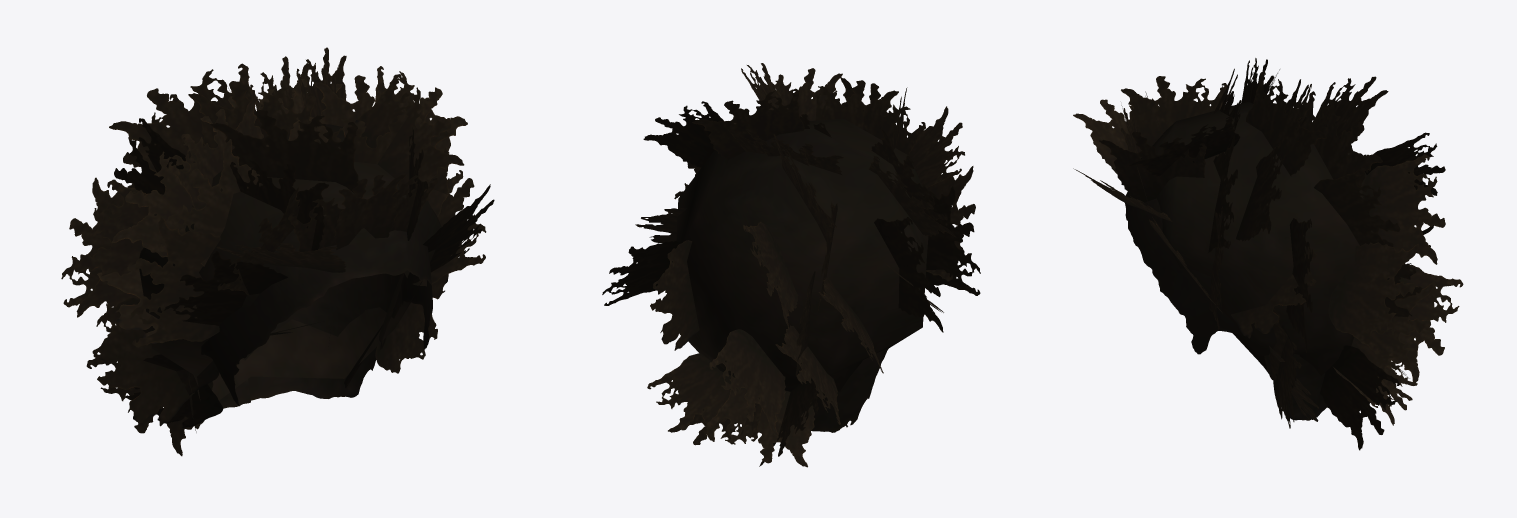
Rendered from hair_013.fbx.
3 views of the same model, side by side, from view 1: azimuth 30°, elevation 25°; view 2: azimuth 150°, elevation 25°; view 3: azimuth 270°, elevation 25° (orthographic). The views are drawn at different scales.
Parts seen in each view (by area): view 1: hair_013; view 2: hair_013; view 3: hair_013.
Part boxes in pixels (box(x1,y1,x2,y2)): hair_013: box(61, 47, 494, 456); hair_013: box(602, 63, 980, 467); hair_013: box(1073, 58, 1463, 450).
Size of the model in its own units: 39.77 by 35.65 by 35.42.
